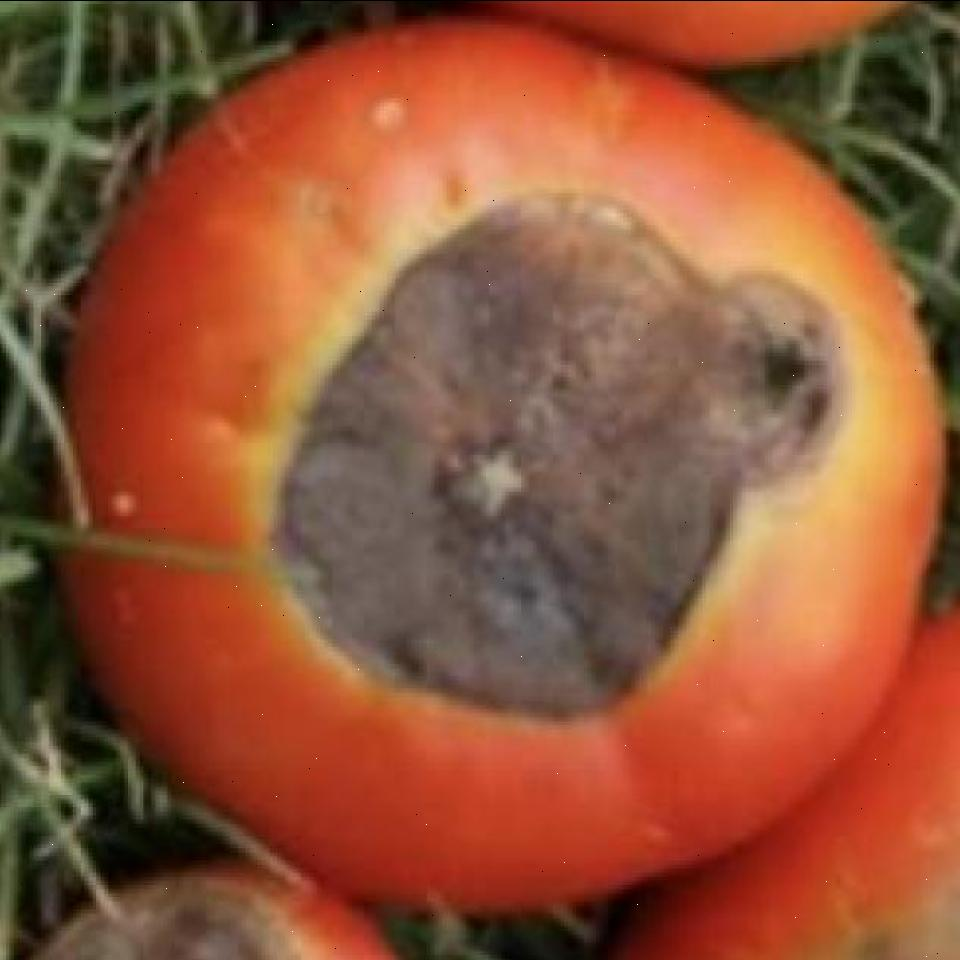Blossom_end_rot: (281, 187, 848, 733), (38, 905, 329, 960)
